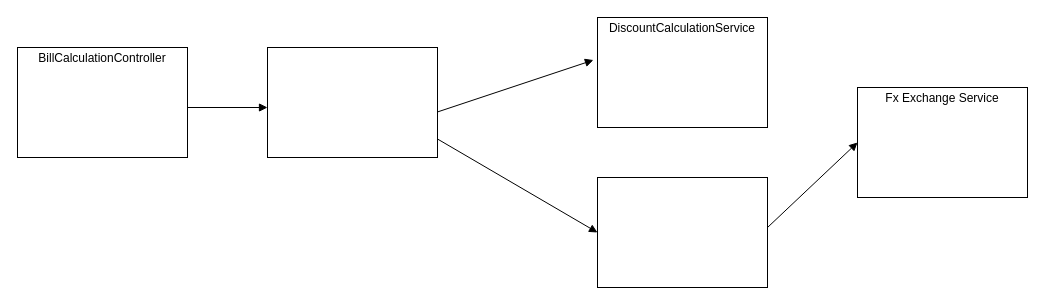
This 1045x305 diagram has some shape labels left out. Each missing label, with the centre of its shape:
"BillCalculationService" belongs at (352,102).
"CurrencyConversionService" belongs at (682,232).
